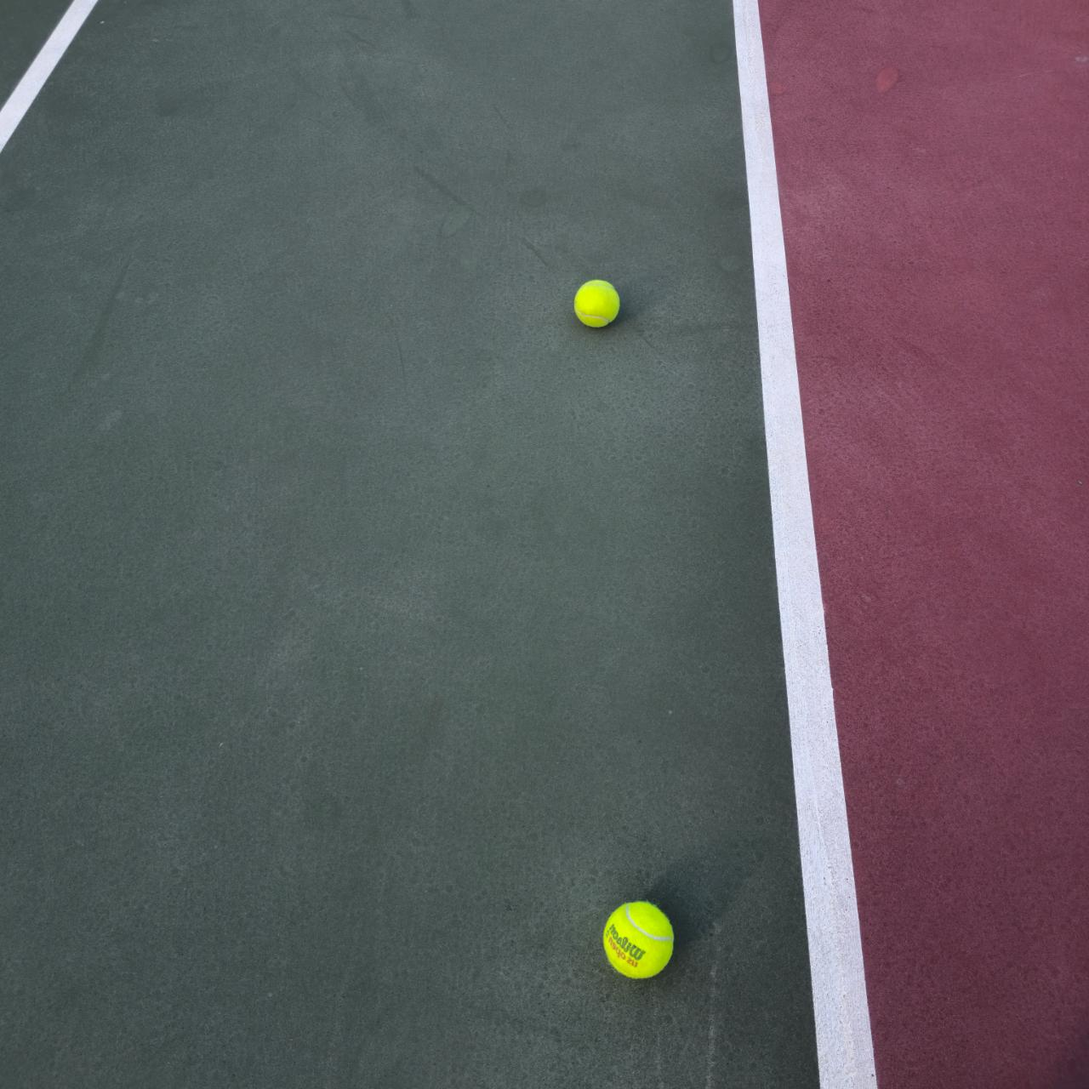tennis-ball: (602, 897, 677, 980), (573, 276, 623, 328)
